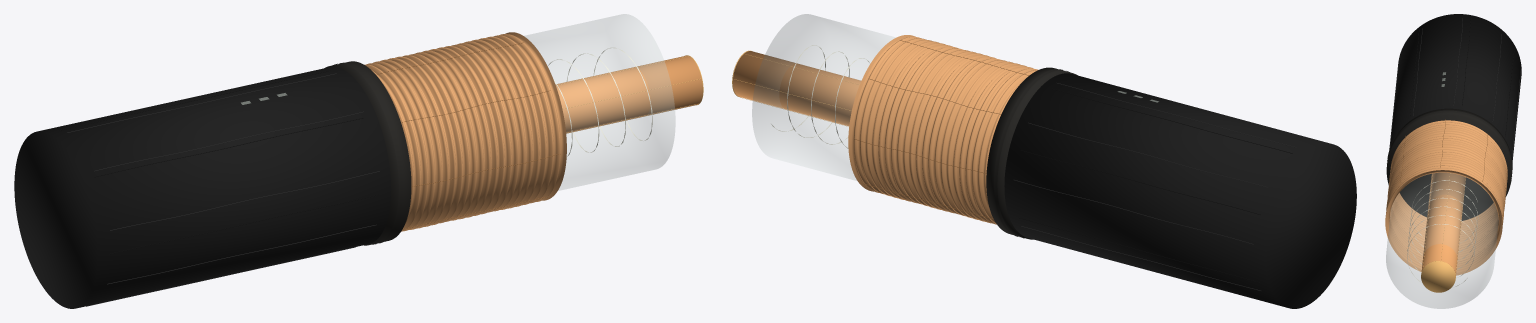
Rendered from rf-hj4-macro.glb.
The picture shows the model from 3 angles, left to right: view 1: azimuth 30°, elevation 25°; view 2: azimuth 150°, elevation 25°; view 3: azimuth 270°, elevation 25°; orthographic projection. The views are drawn at different scales.
Parts seen in each view (by area): view 1: macro hardline jacket body, annular corrugated solid shield, air dielectric visual envelope, polished solid center conductor, hardline jacket cut wall, rounded jacket cut lip, continuous PE helical air spacer; view 2: macro hardline jacket body, annular corrugated solid shield, air dielectric visual envelope, polished solid center conductor, hardline jacket cut wall, rounded jacket cut lip, continuous PE helical air spacer; view 3: macro hardline jacket body, air dielectric visual envelope, annular corrugated solid shield, hardline jacket cut wall, polished solid center conductor, polished conductor cut face glow, continuous PE helical air spacer, rounded jacket cut lip.
Boxes of the visible parts, bbox=[...] form: macro hardline jacket body: bbox=[14, 66, 391, 308]; annular corrugated solid shield: bbox=[364, 32, 566, 231]; air dielectric visual envelope: bbox=[524, 14, 675, 190]; polished solid center conductor: bbox=[555, 55, 702, 133]; hardline jacket cut wall: bbox=[324, 61, 411, 245]; rounded jacket cut lip: bbox=[333, 62, 402, 244]; continuous PE helical air spacer: bbox=[548, 47, 652, 156]; macro hardline jacket body: bbox=[1004, 73, 1356, 308]; annular corrugated solid shield: bbox=[848, 35, 1038, 224]; air dielectric visual envelope: bbox=[752, 14, 895, 180]; polished solid center conductor: bbox=[733, 51, 861, 126]; hardline jacket cut wall: bbox=[986, 67, 1077, 239]; rounded jacket cut lip: bbox=[994, 69, 1069, 238]; continuous PE helical air spacer: bbox=[771, 45, 869, 148]; macro hardline jacket body: bbox=[1389, 14, 1521, 162]; air dielectric visual envelope: bbox=[1386, 173, 1498, 308]; annular corrugated solid shield: bbox=[1385, 120, 1507, 275]; hardline jacket cut wall: bbox=[1386, 108, 1512, 220]; polished solid center conductor: bbox=[1421, 172, 1465, 275]; polished conductor cut face glow: bbox=[1421, 261, 1455, 292]; continuous PE helical air spacer: bbox=[1407, 180, 1478, 287]; rounded jacket cut lip: bbox=[1387, 110, 1512, 180].
Size of the model in its own units: 11.64 by 2.98 by 3.22.
